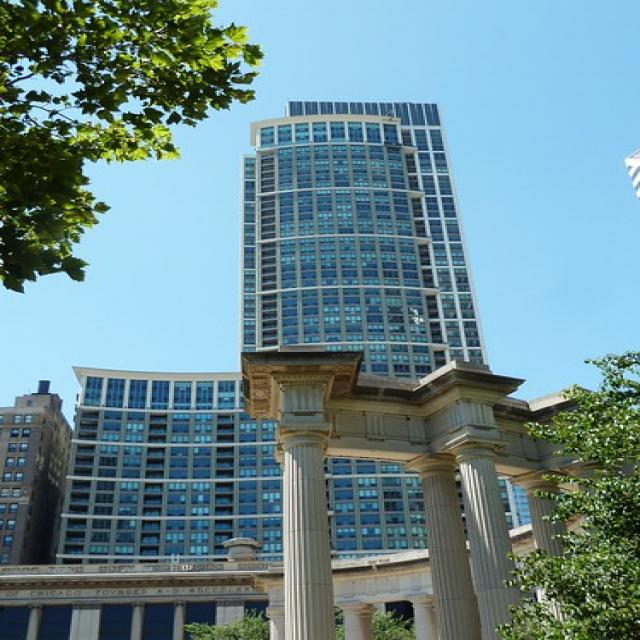Normal_building: (238, 91, 503, 598)
